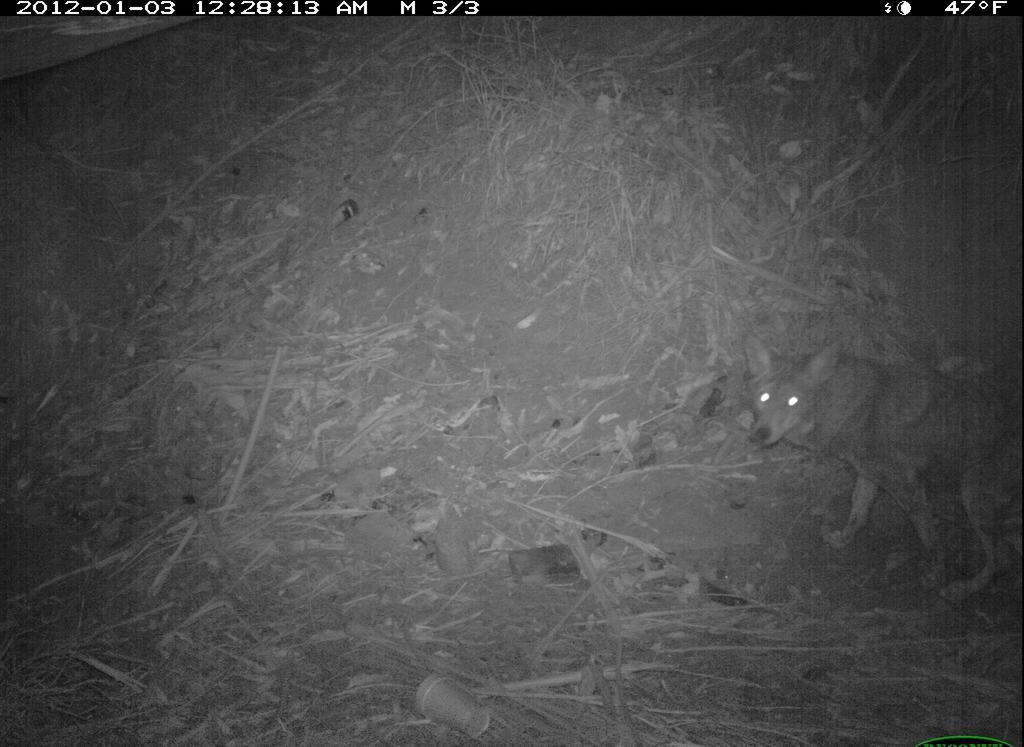coyote: (725, 338, 1018, 626)
